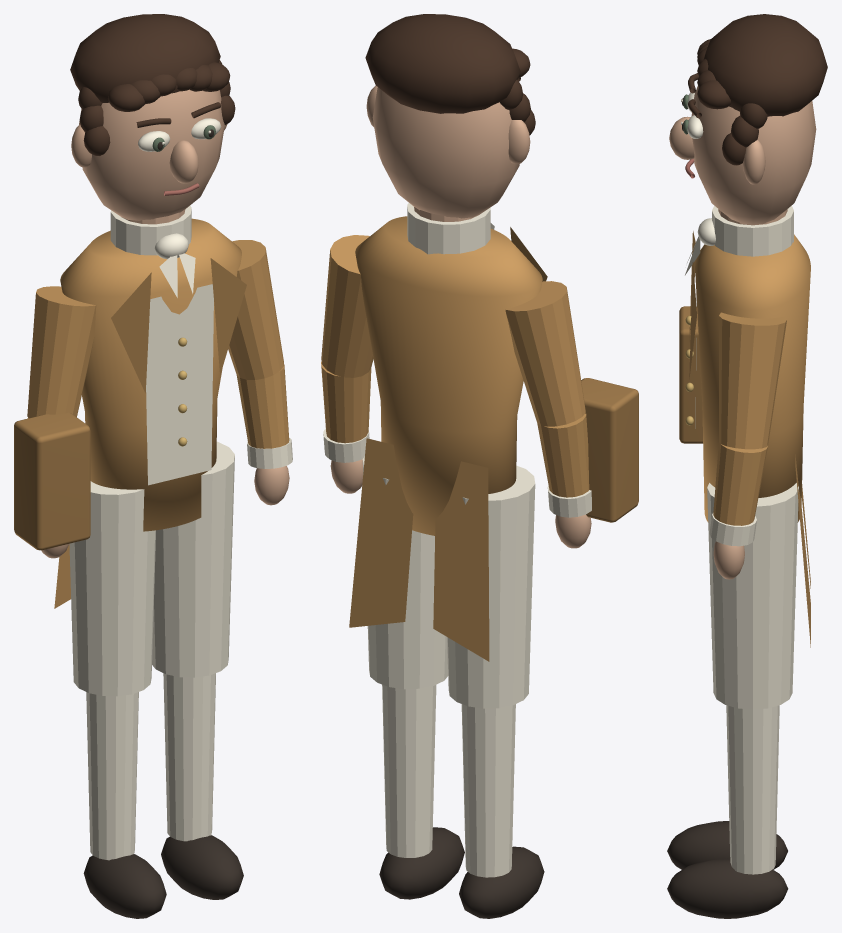
Rendered from steward.glb.
The picture shows the model from 3 angles, left to right: view 1: azimuth 30°, elevation 25°; view 2: azimuth 150°, elevation 25°; view 3: azimuth 270°, elevation 25°; orthographic projection. The views are drawn at different scales.
Visible parts, largest first — view 1: steward fitted coat, steward breeches, steward breeches.001, steward waistcoat, steward head, steward estate ledger, steward hair crown, steward stocking.001, steward stocking, steward sleeve upper, steward sleeve upper.001, steward shoe (+13 smaller); view 2: steward fitted coat, steward head, steward breeches, steward hair crown, steward coat tail, steward coat tail.001, steward stocking, steward stocking.001, steward sleeve upper, steward breeches.001, steward estate ledger, steward sleeve upper.001 (+10 smaller); view 3: steward fitted coat, steward breeches.001, steward head, steward hair crown, steward stocking.001, steward sleeve upper.001, steward shoe.001, steward sleeve lower.001, steward high shirt collar, steward estate ledger, steward shoe, steward cuff.001 (+10 smaller).
Part boxes in pixels (x1,y1,x2,y2): steward fitted coat: (60, 218, 241, 531); steward breeches: (69, 481, 155, 696); steward breeches.001: (152, 441, 234, 677); steward waistcoat: (146, 284, 213, 485); steward head: (79, 89, 224, 220); steward estate ledger: (14, 412, 90, 550); steward hair crown: (70, 14, 220, 102); steward stocking.001: (163, 673, 215, 841); steward stocking: (86, 692, 138, 860); steward sleeve upper: (27, 286, 96, 418); steward sleeve upper.001: (228, 240, 283, 379); steward shoe: (83, 854, 166, 918); steward fitted coat: (355, 216, 542, 535); steward head: (372, 87, 519, 218); steward breeches: (447, 465, 535, 708); steward hair crown: (365, 14, 520, 113); steward coat tail: (433, 461, 489, 661); steward coat tail.001: (349, 438, 413, 627); steward stocking: (461, 704, 515, 877); steward stocking.001: (382, 684, 436, 857); steward sleeve upper: (505, 281, 585, 426); steward breeches.001: (362, 456, 448, 689); steward estate ledger: (581, 378, 638, 522); steward sleeve upper.001: (321, 235, 373, 377); steward fitted coat: (695, 234, 810, 522); steward breeches.001: (707, 483, 798, 709); steward head: (691, 86, 816, 224); steward hair crown: (703, 14, 827, 116); steward stocking.001: (726, 705, 779, 874); steward sleeve upper.001: (719, 312, 786, 449); steward shoe.001: (667, 858, 788, 918); steward sleeve lower.001: (713, 442, 767, 525); steward high shirt collar: (712, 205, 793, 256); steward estate ledger: (679, 306, 702, 443); steward shoe: (667, 821, 787, 869); steward cuff.001: (709, 513, 756, 546).
Size of the model in its own units: 0.613 by 1.82 by 0.305.
